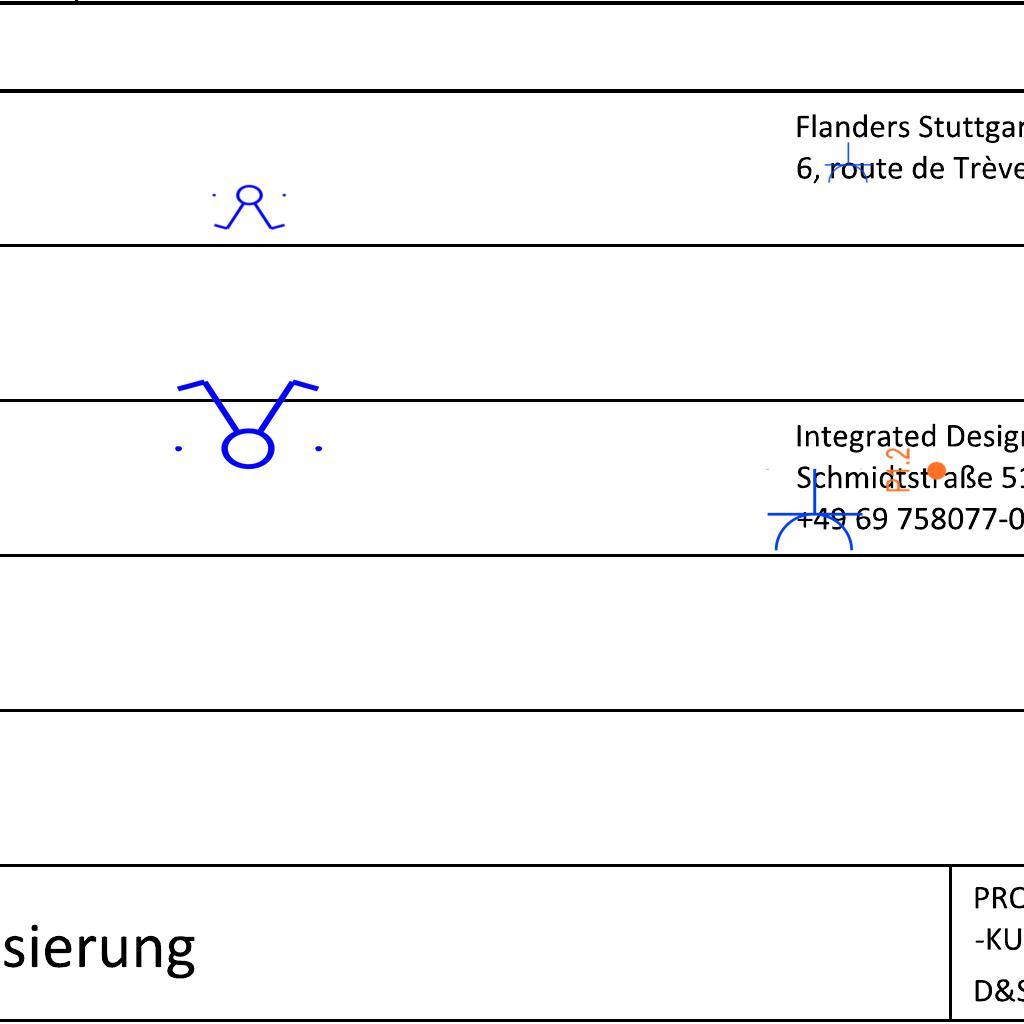Downlight_LED_Einbauleuchten_Flur: (884, 447, 948, 493)
Schukosteckdose_einfach: (764, 468, 864, 555), (823, 142, 873, 185)
Serienschalter: (163, 375, 331, 471), (208, 184, 292, 232)
